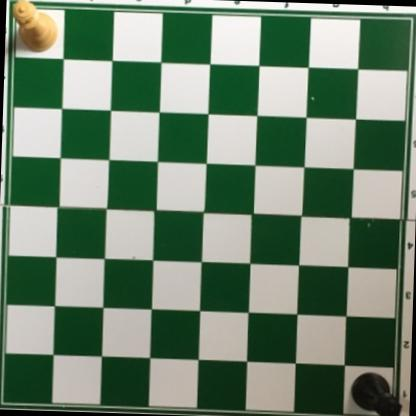black-queen: (351, 372, 405, 416)
white-queen: (9, 0, 60, 53)
